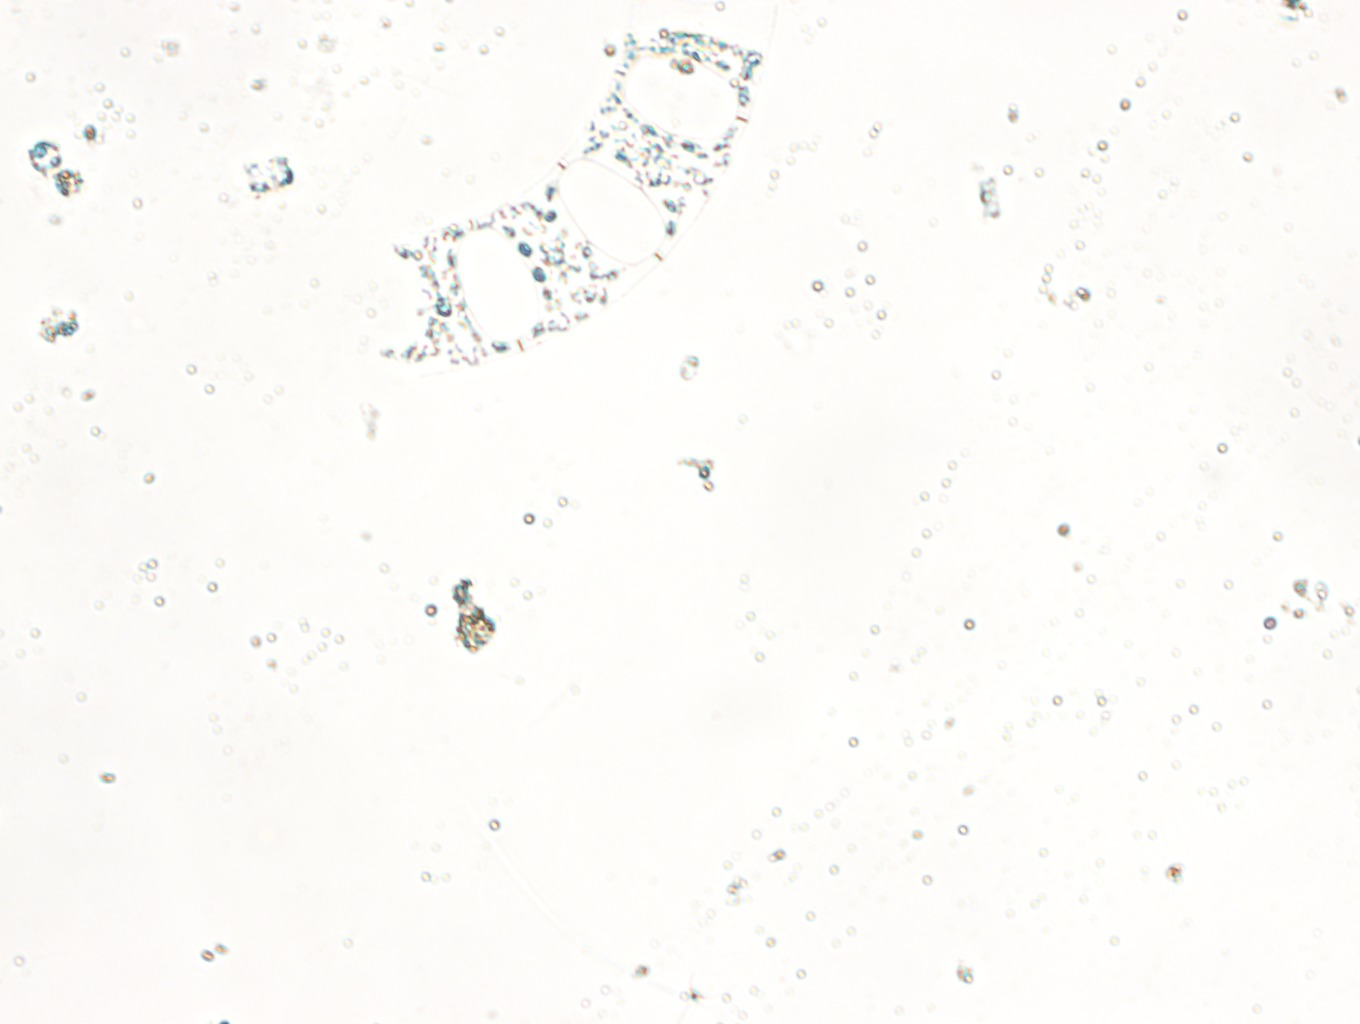eucampia: (366, 1, 783, 385)
